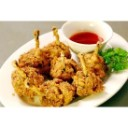chicken_lollipop: (26, 81, 75, 106), (77, 53, 104, 96), (8, 61, 44, 90), (26, 31, 49, 70), (46, 26, 71, 59), (89, 44, 110, 76), (52, 52, 76, 78)
